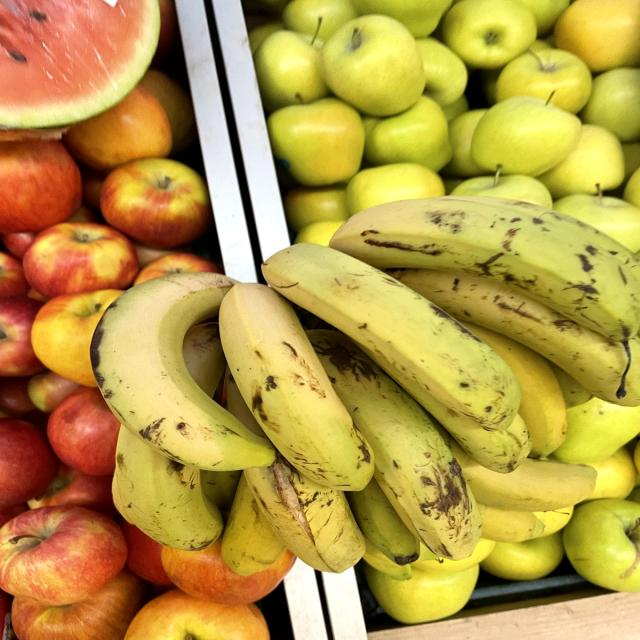banana: (257, 240, 520, 435)
